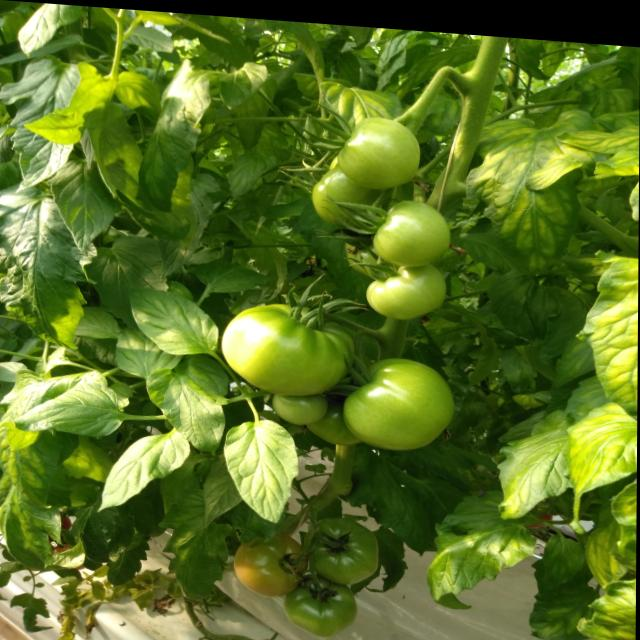yesil: (300, 99, 455, 311)
